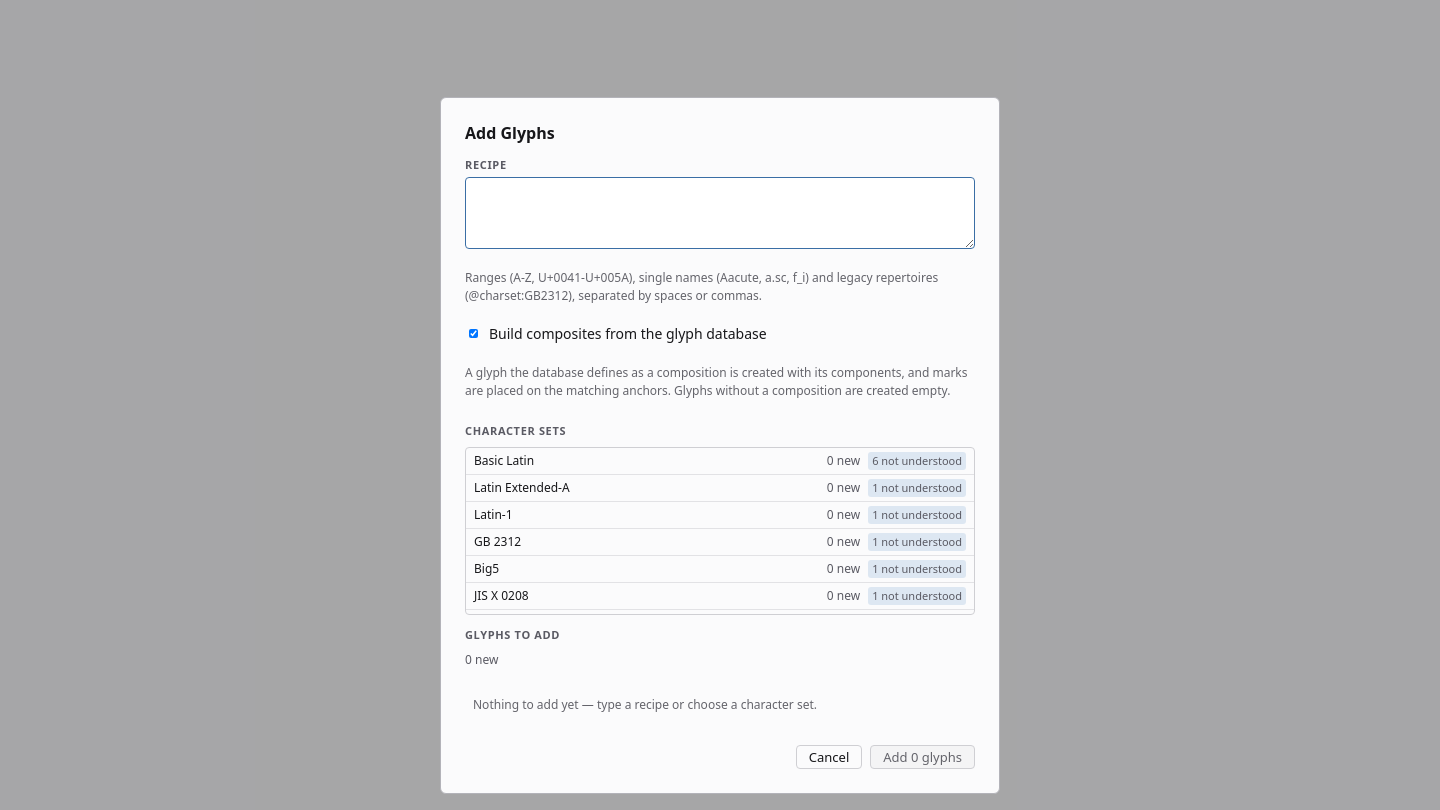
AddGlyphsDialog › says why each item was skipped
Type "a 12three too-large-marker" into the text box labelled "Recipe" at (720, 213), box [465,177,975,249]
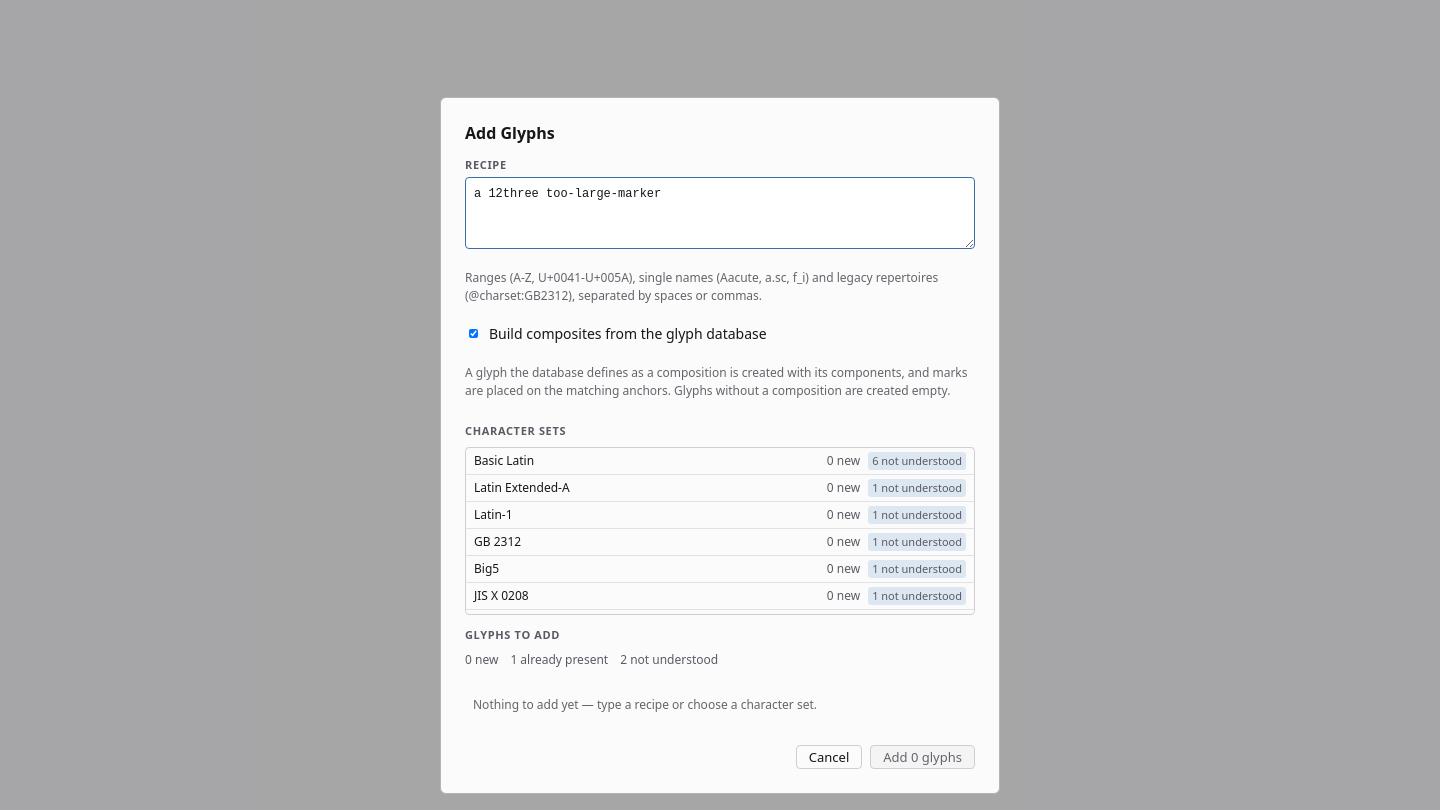
Check: the text "1 already present" is shown, box [510,651,608,668]
Check: the text "2 not understood" is shown, box [620,651,718,668]
